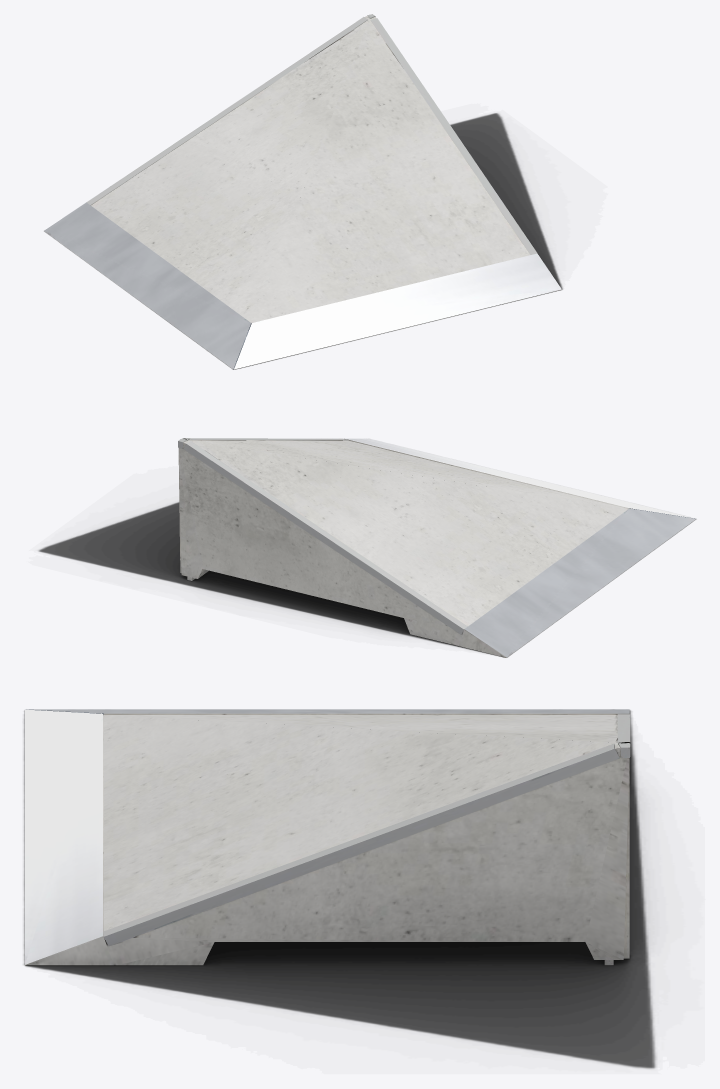
Rendered from hip-75.gltf.
The picture shows the model from 3 angles, top to bottom: view 1: azimuth 30°, elevation 25°; view 2: azimuth 150°, elevation 25°; view 3: azimuth 270°, elevation 25°; orthographic projection. The views are drawn at different scales.
Parts seen in each view (by area): view 1: SK0849_HIP-75.001, Schatten; view 2: SK0849_HIP-75.001, Schatten; view 3: SK0849_HIP-75.001, Schatten.
Part boxes in pixels (x1=…): SK0849_HIP-75.001: x1=44, y1=14, x2=561, y2=369; Schatten: x1=45, y1=113, x2=562, y2=369; SK0849_HIP-75.001: x1=178, y1=438, x2=695, y2=657; Schatten: x1=38, y1=502, x2=690, y2=657; SK0849_HIP-75.001: x1=25, y1=709, x2=630, y2=965; Schatten: x1=24, y1=710, x2=655, y2=1068.
Size of the model in its own units: 2.64 by 0.73 by 2.09.
4 materials, 4 textured.
